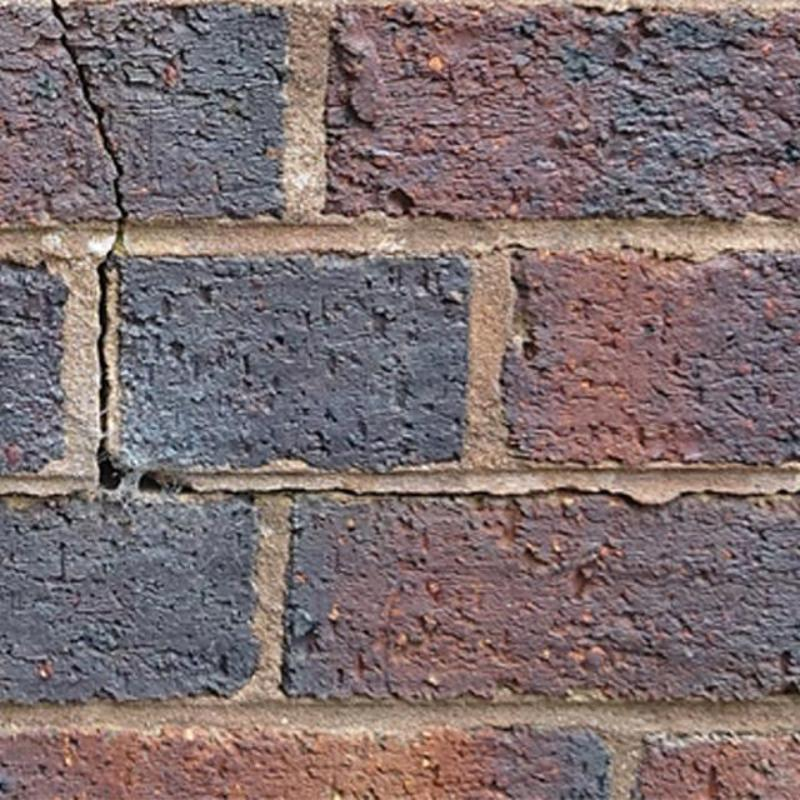pothole: (52, 1, 134, 492), (139, 470, 800, 511)
